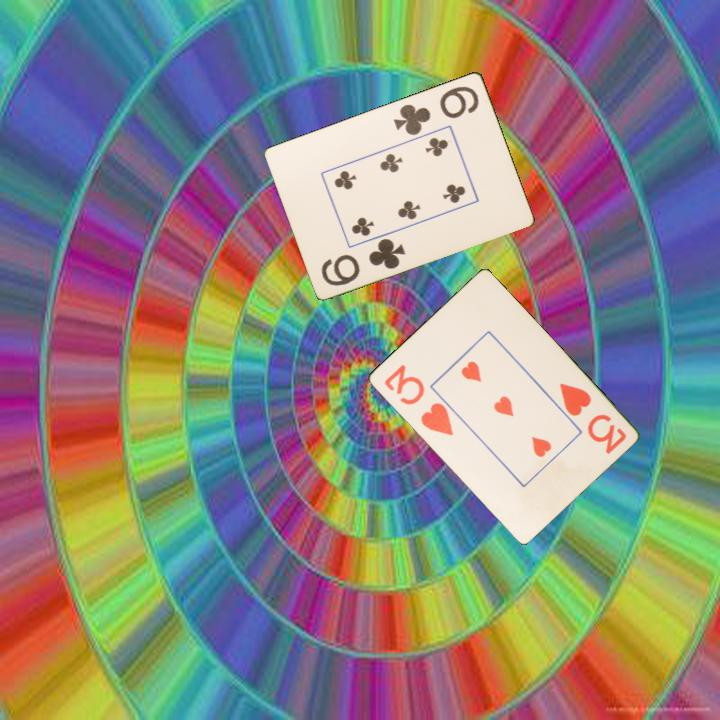3h: (380, 360, 456, 439), (555, 379, 629, 457)
6c: (390, 82, 482, 138), (318, 234, 409, 289)
